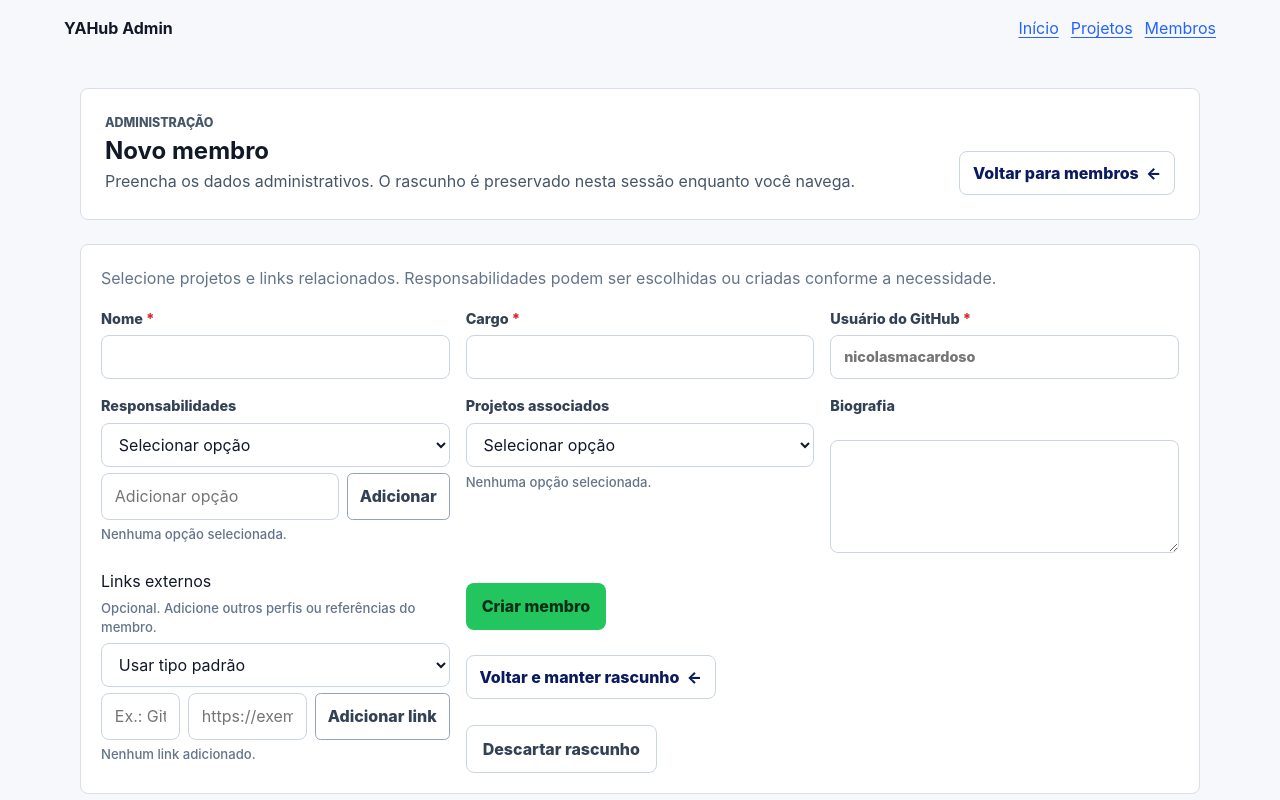
Test: App › mantém rascunho do membro ao voltar para a listagem sem salvar
In the field labelled "Nome": (275, 357) [101,335,450,379], type "Membro em Rascunho"
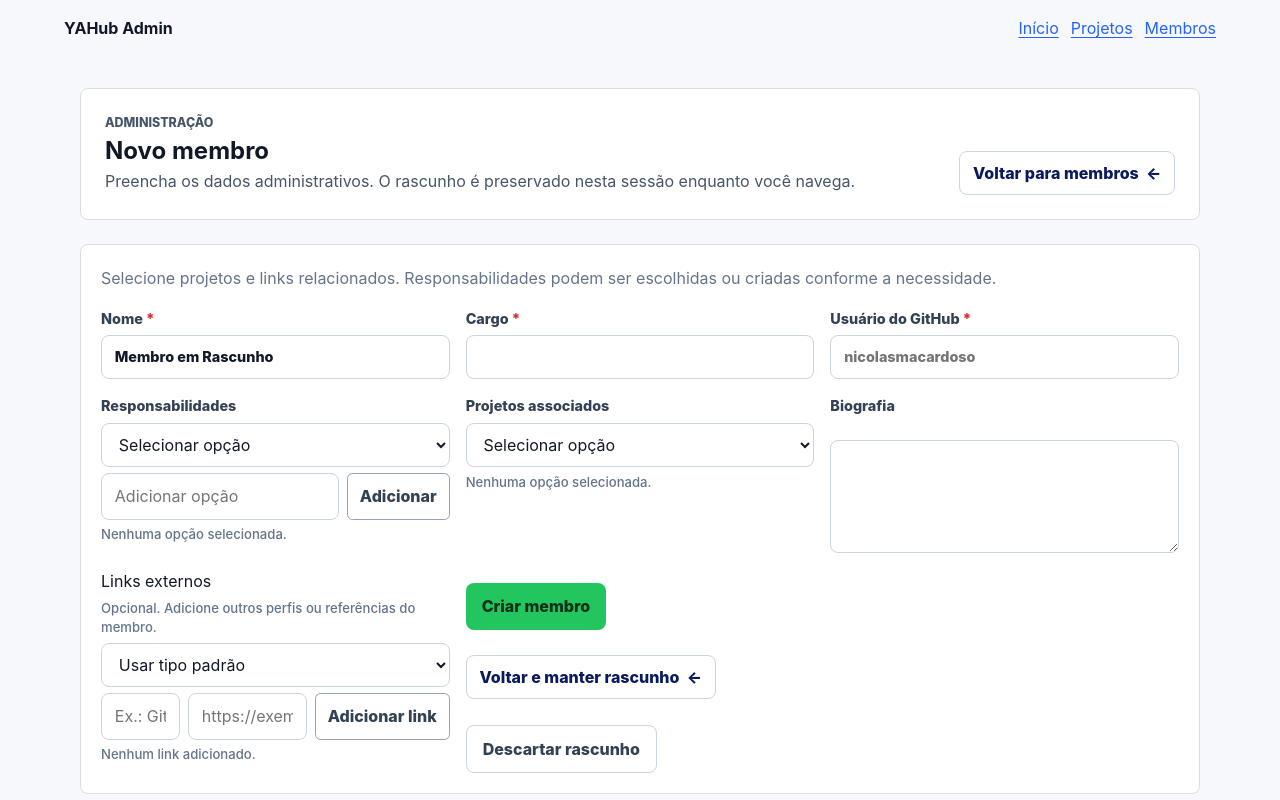
Click the link "Voltar e manter rascunho ←": (591, 677) [466,655,716,699]
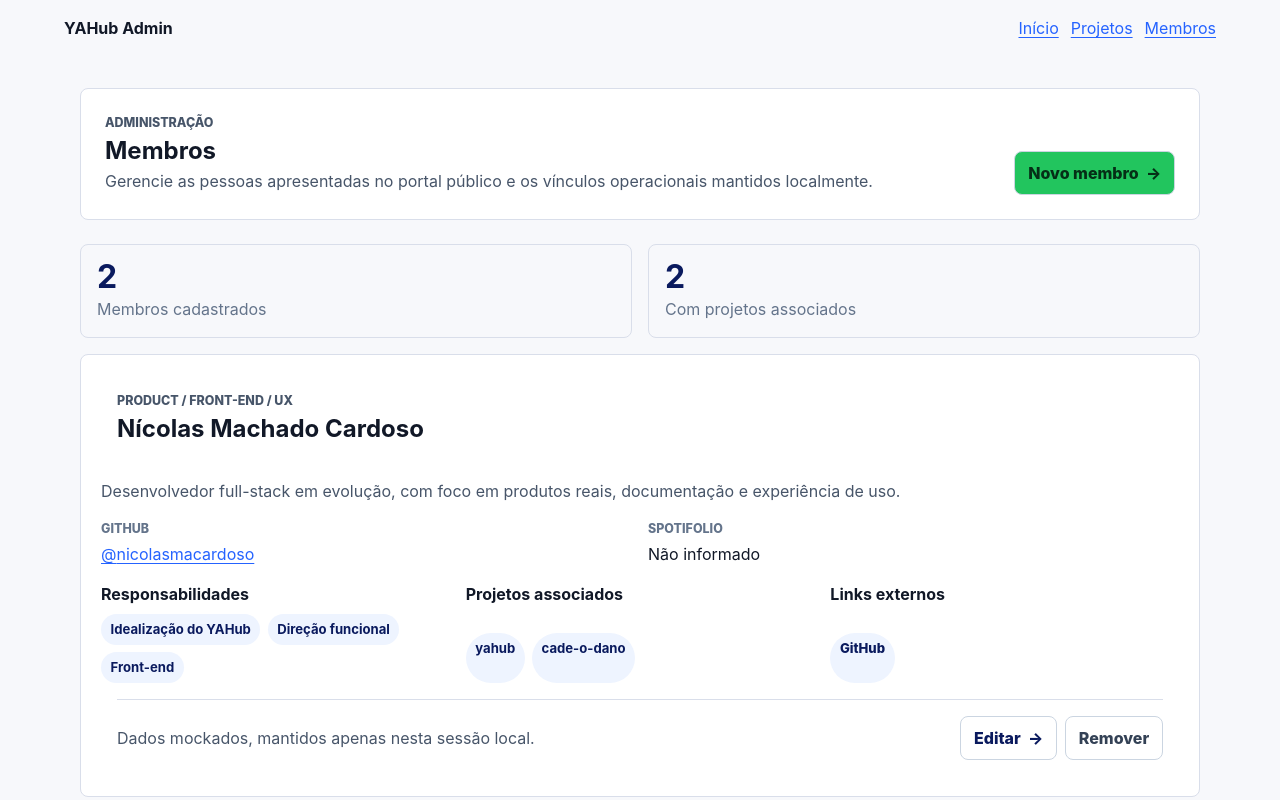
Expected: the heading "Membros" is shown, [105,136,216,165]
Click the link "Novo membro →": (1095, 173) [1014,151,1175,195]
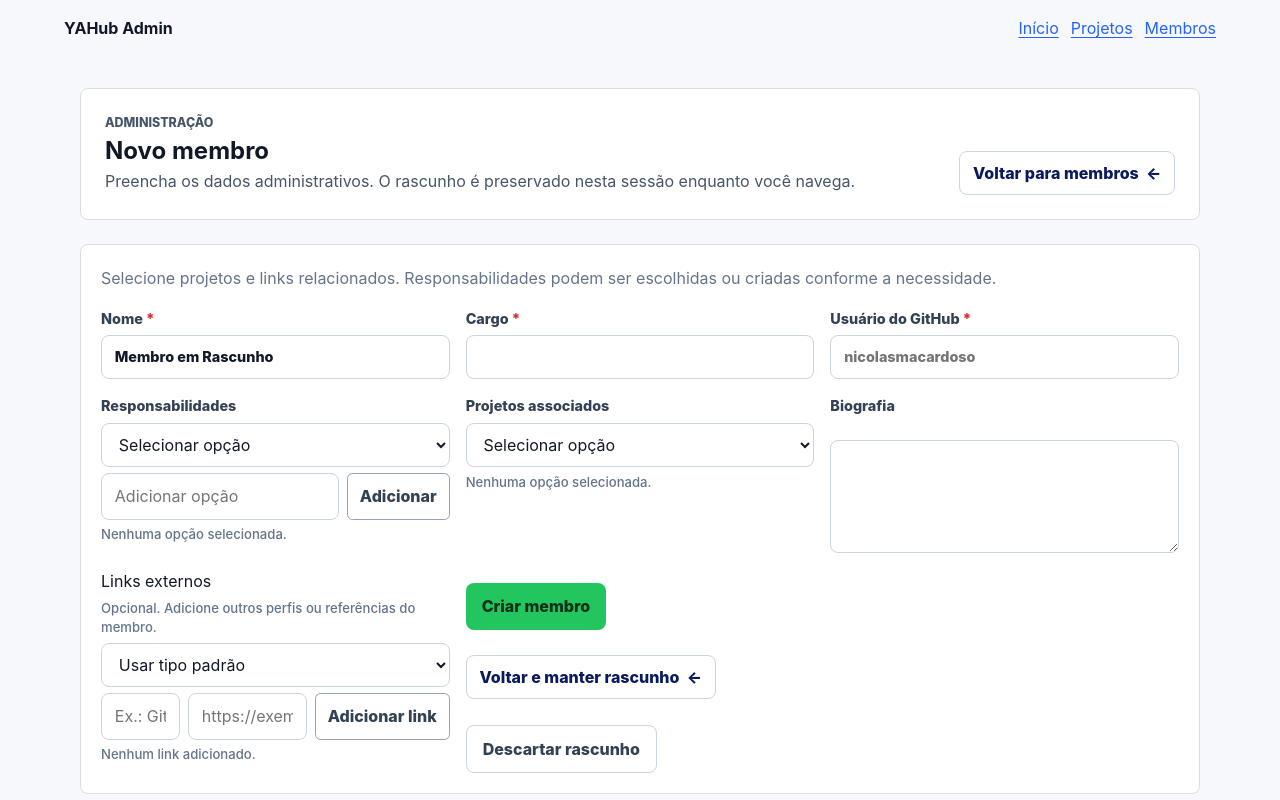
Expected: the field labelled "Nome" holds "Membro em Rascunho", [101,335,450,379]
